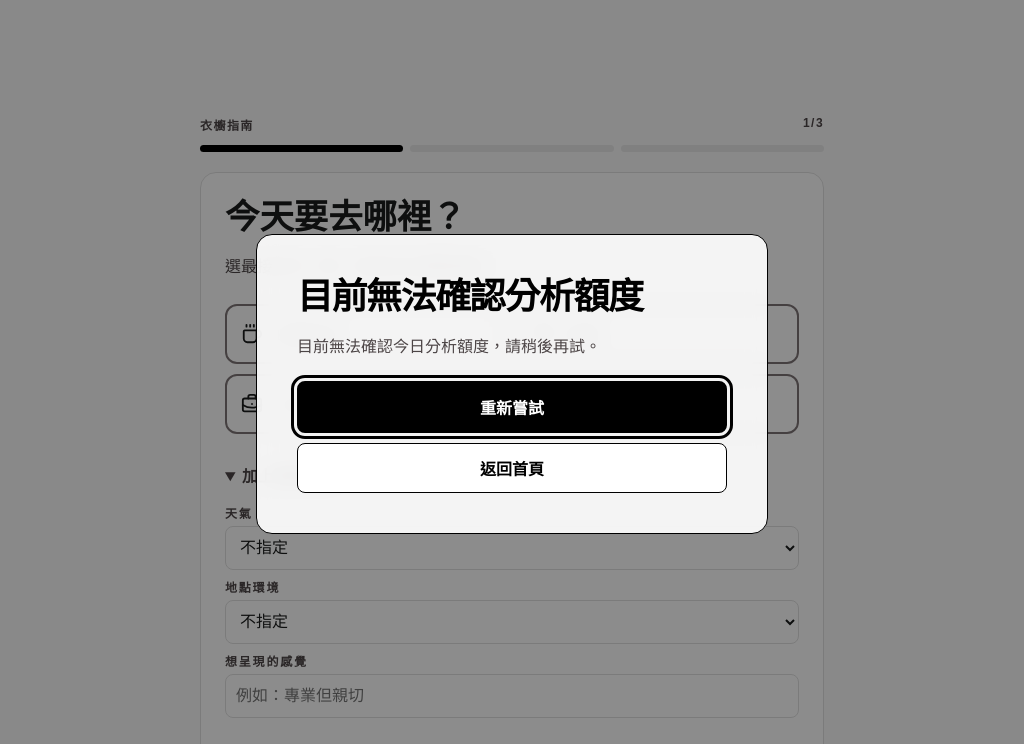
outfit flow › offers retry and home when quota status is unavailable, then unlocks on retry
Expected: the dialog "目前無法確認分析額度" shows "目前無法確認今日分析額度，請稍後再試。", [297, 338, 601, 355]
Press Tab in the dialog "目前無法確認分析額度", box [256, 234, 768, 534]
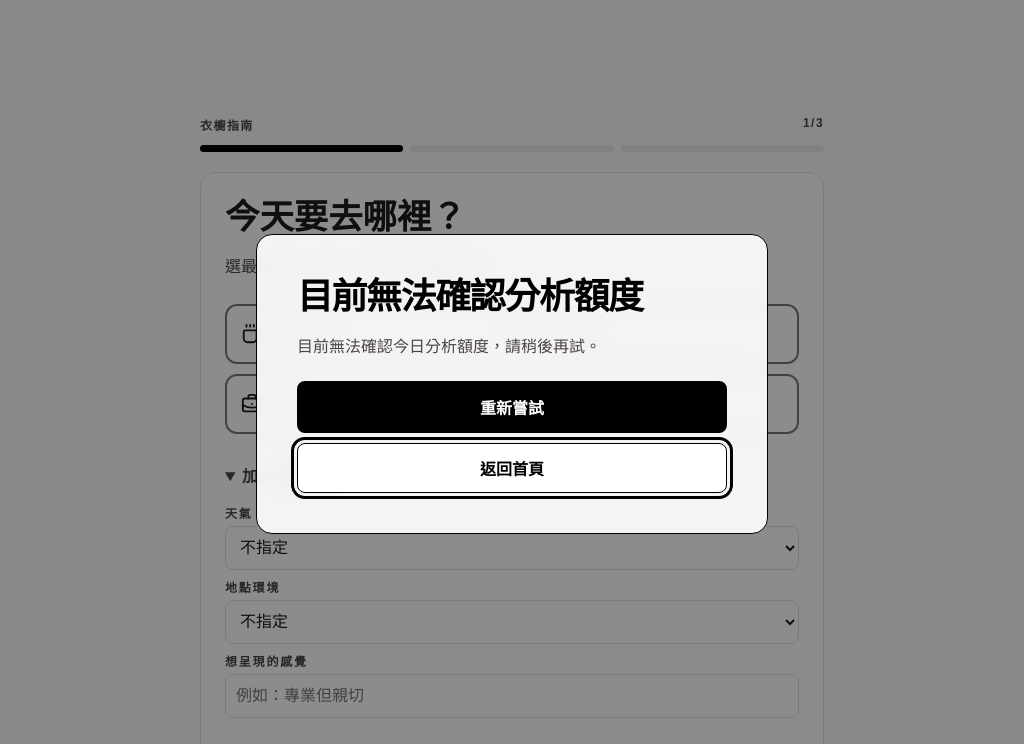
Press Tab in the dialog "目前無法確認分析額度", box [256, 234, 768, 534]
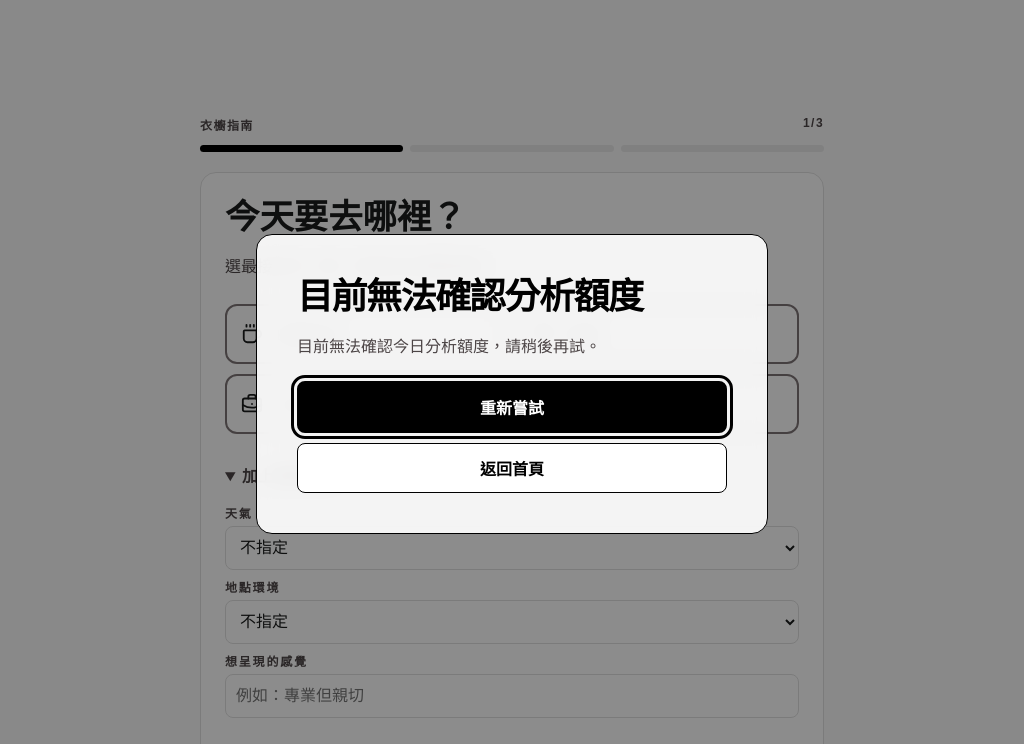
Press Tab in the dialog "目前無法確認分析額度", box [256, 234, 768, 534]
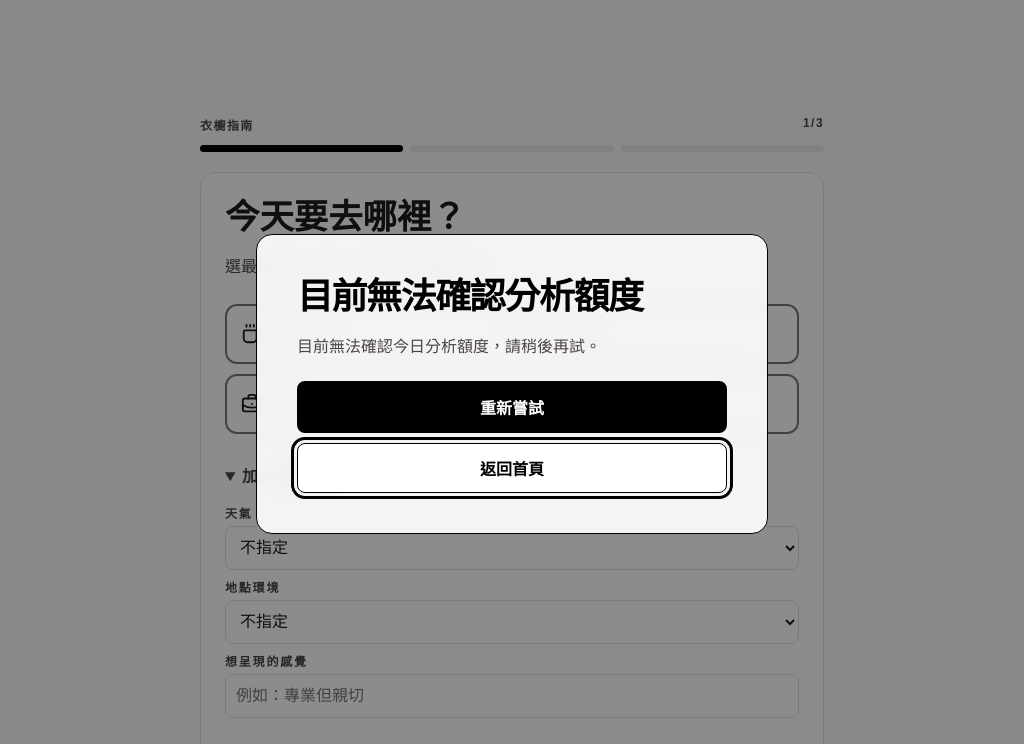
Click the button "重新嘗試": [512, 407] box [297, 381, 727, 433]
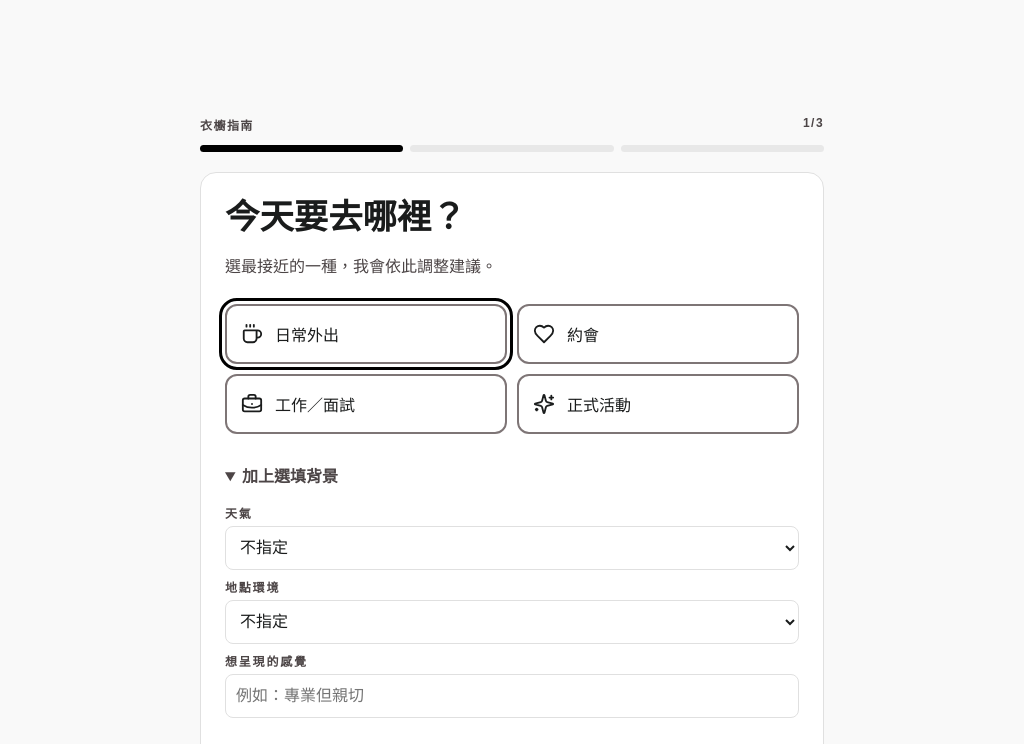
Expected: the button "日常外出" is enabled, [225, 304, 507, 364]
Expected: the dialog is gone
